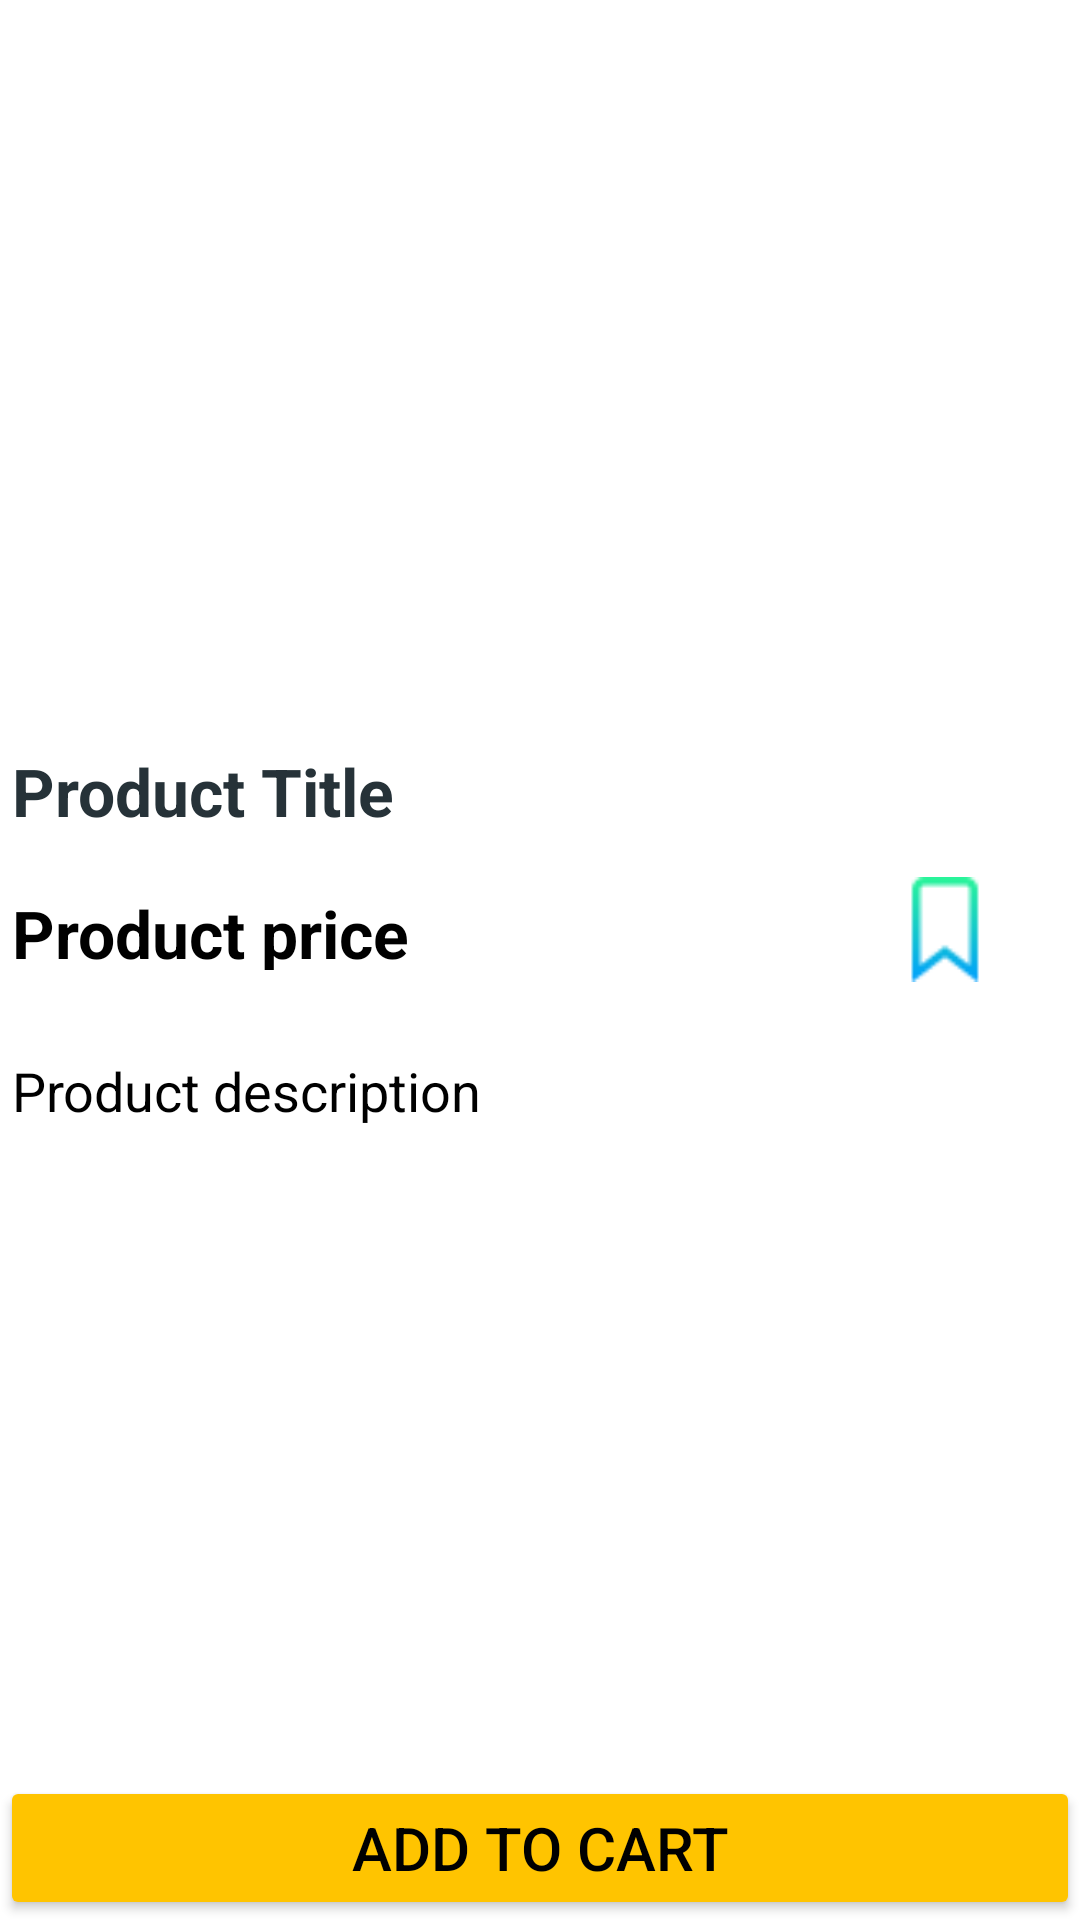

Where icons sit on this 1080x1920 app screen, as BBox(x1, y1, x2, y2):
bookmark not added: BBox(911, 877, 979, 982)
